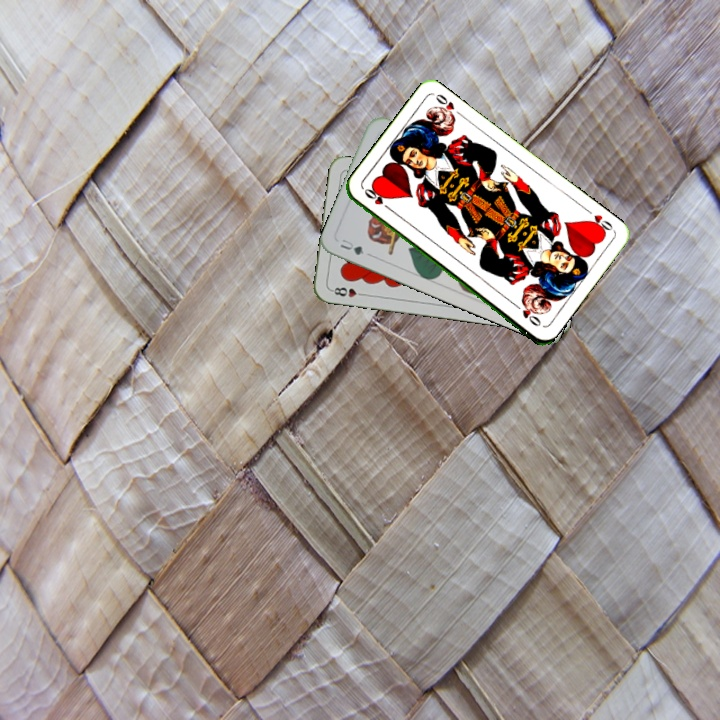GU: (336, 235, 367, 258)
H8: (327, 283, 368, 300)
HO: (360, 184, 395, 213), (583, 211, 616, 237)
